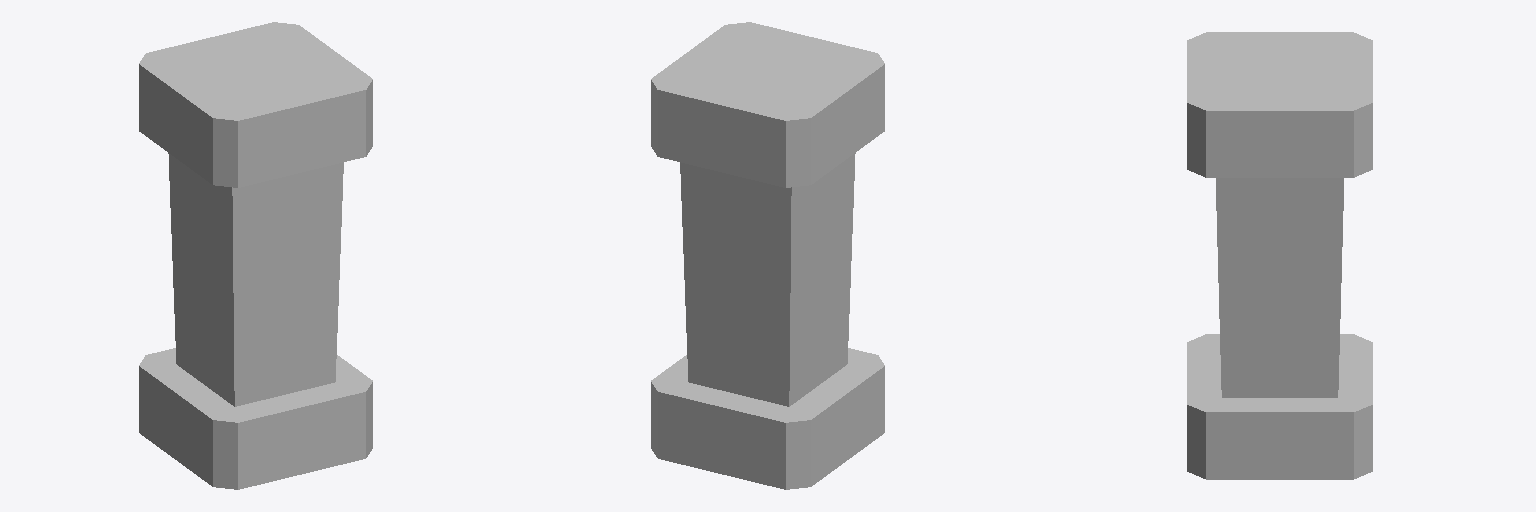
The model's file is column.obj.
3 renders of one model, left to right at view 1: azimuth 30°, elevation 25°; view 2: azimuth 150°, elevation 25°; view 3: azimuth 270°, elevation 25°, orthographic.
Parts seen in each view (by area): view 1: column; view 2: column; view 3: column.
Part boxes in pixels (left/top/right/bottom): column: left=139, top=22, right=372, bottom=489; column: left=651, top=22, right=884, bottom=489; column: left=1187, top=32, right=1372, bottom=479.
Size of the model in its own units: 0.5 by 1.1 by 0.5.